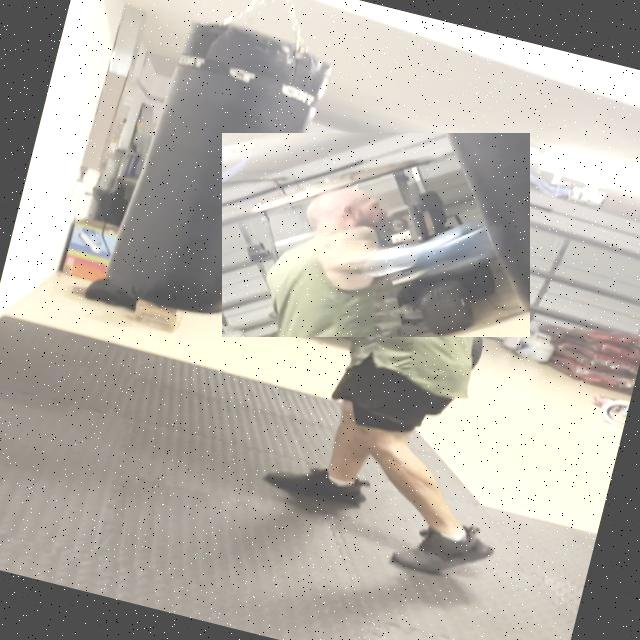punch: (222, 133, 530, 337)
